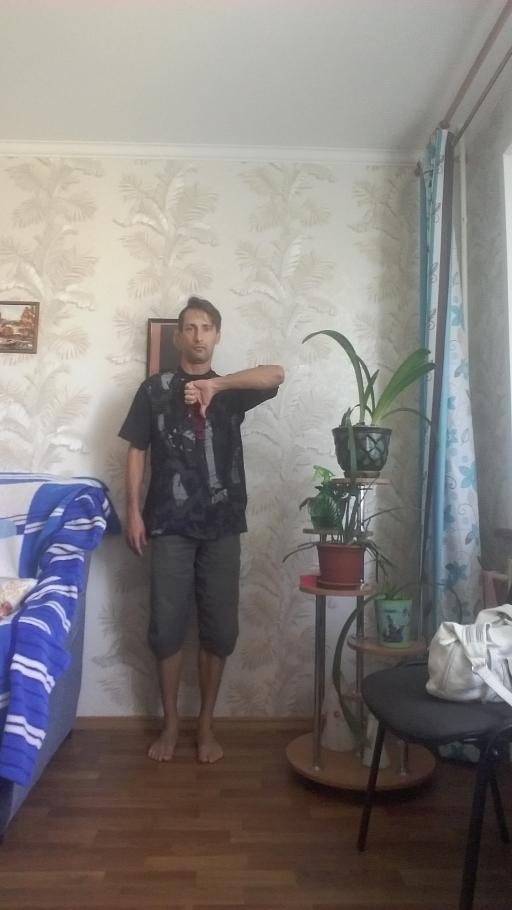dislike: (182, 377, 216, 420)
no_gesture: (123, 512, 149, 558)
